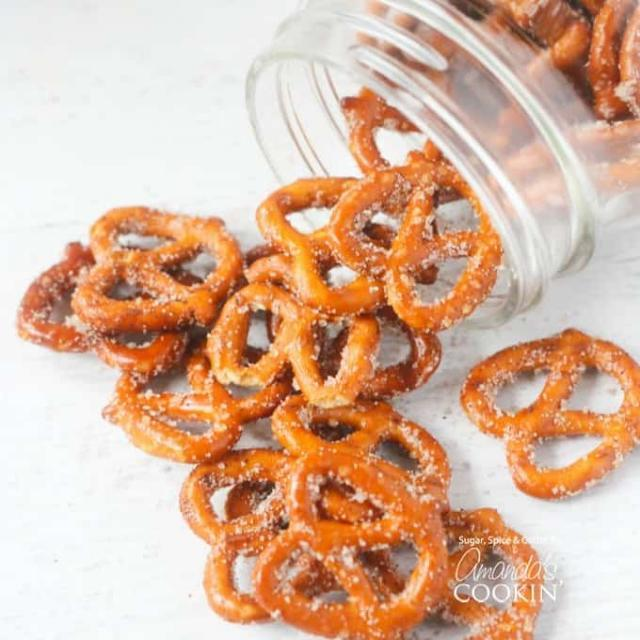Salatini: (22, 163, 638, 640)
